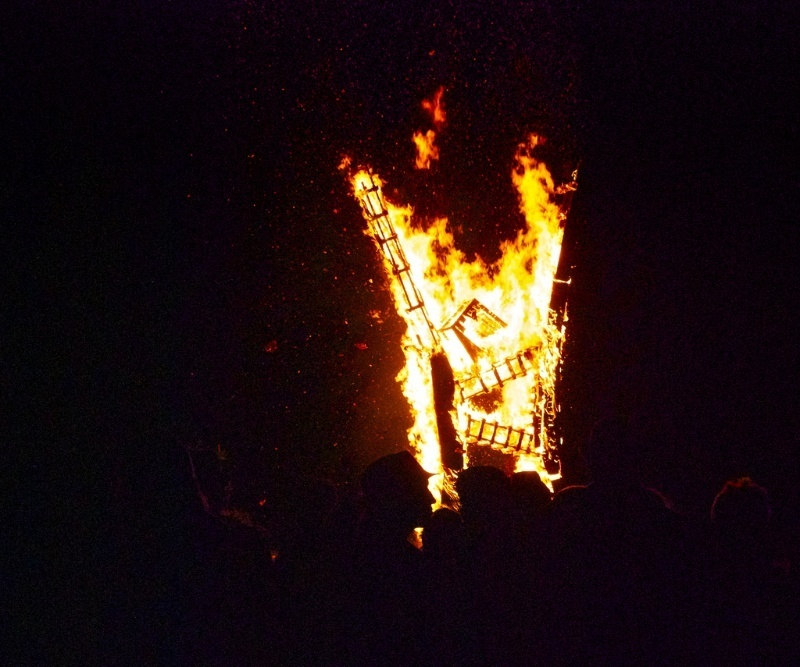fire: (348, 86, 576, 505)
